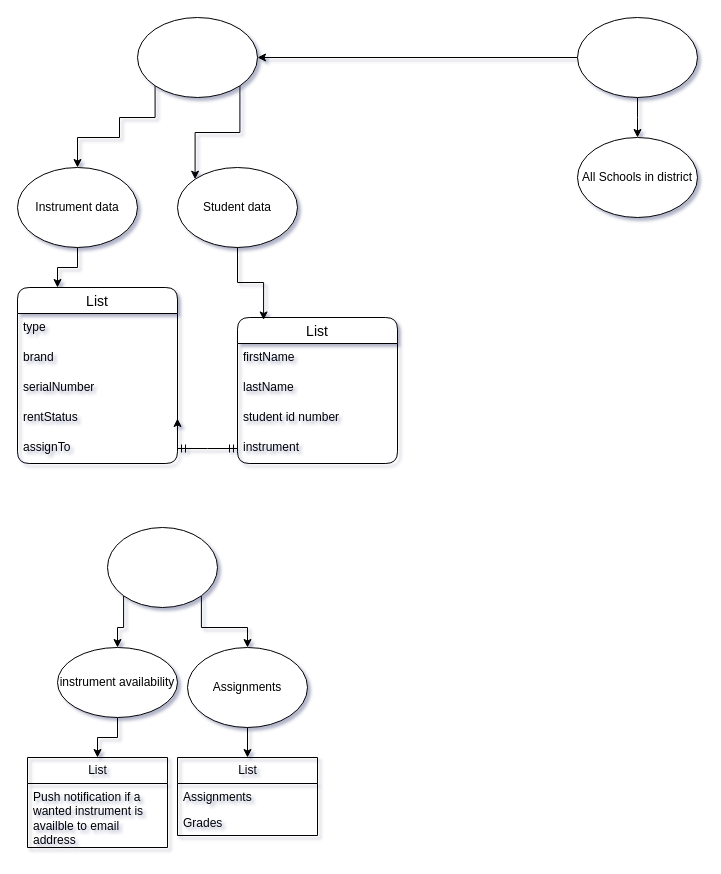
Some shapes in this 721 by 874 pixel diagram are drawn without their labels. Here are the shapes that lost their labels. From the top down, the centre of each, then its label:
At point 197,57: "Teacher dashboard".
At point 637,57: "Admin dashboard".
At point 162,567: "Student dashBoard".
